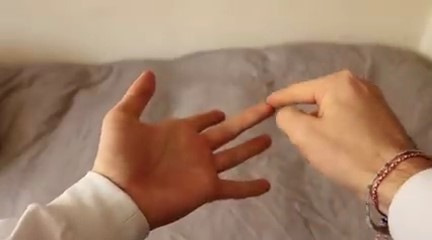I: (73, 48, 426, 230)
